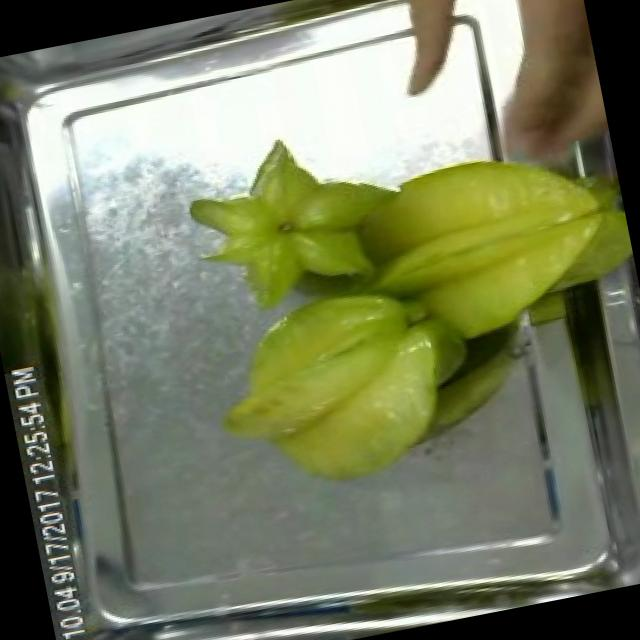fruit: (342, 124, 640, 371), (192, 262, 470, 518), (168, 110, 408, 318)
